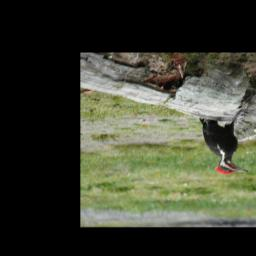Woodpecker: (198, 114, 249, 178)
